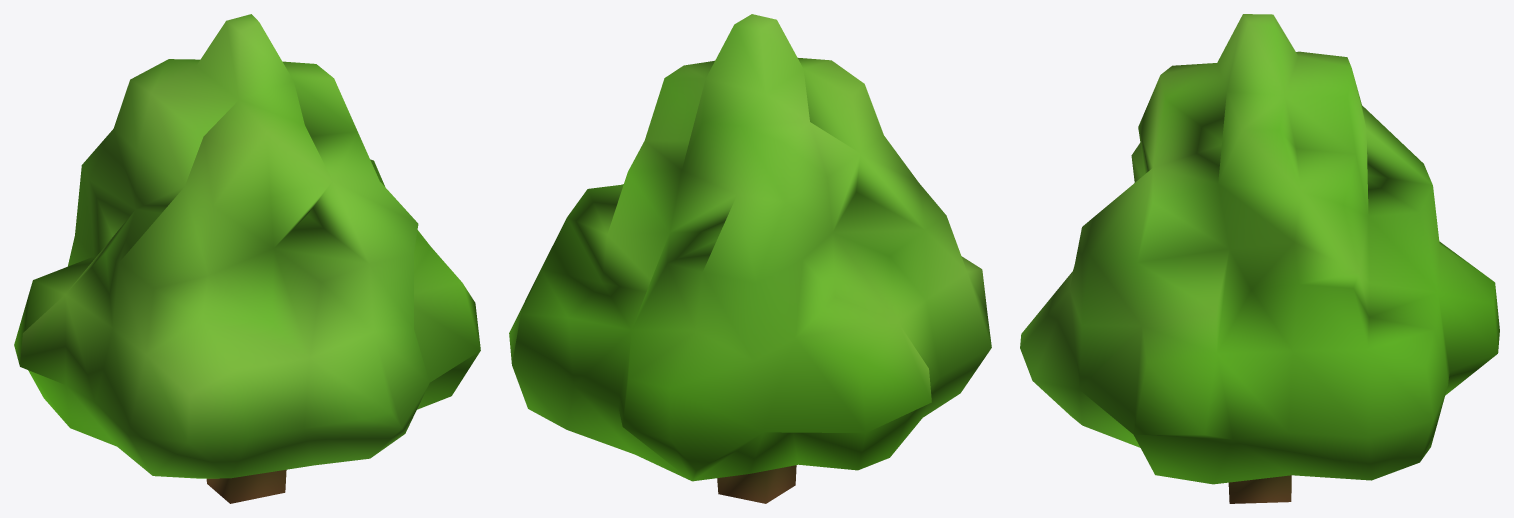
Rendered from pine-tree-105-lod3.obj.
3 views of the same model, side by side, from view 1: azimuth 30°, elevation 25°; view 2: azimuth 150°, elevation 25°; view 3: azimuth 270°, elevation 25° (orthographic).
Visible parts, largest first — view 1: simplified; view 2: simplified; view 3: simplified.
Part boxes in pixels (box(x1,y1,x2,y2)): simplified: box(14, 14, 480, 503); simplified: box(509, 14, 991, 503); simplified: box(1020, 14, 1499, 503).
Bounding box in the file's own units: 273 × 302 × 278.
